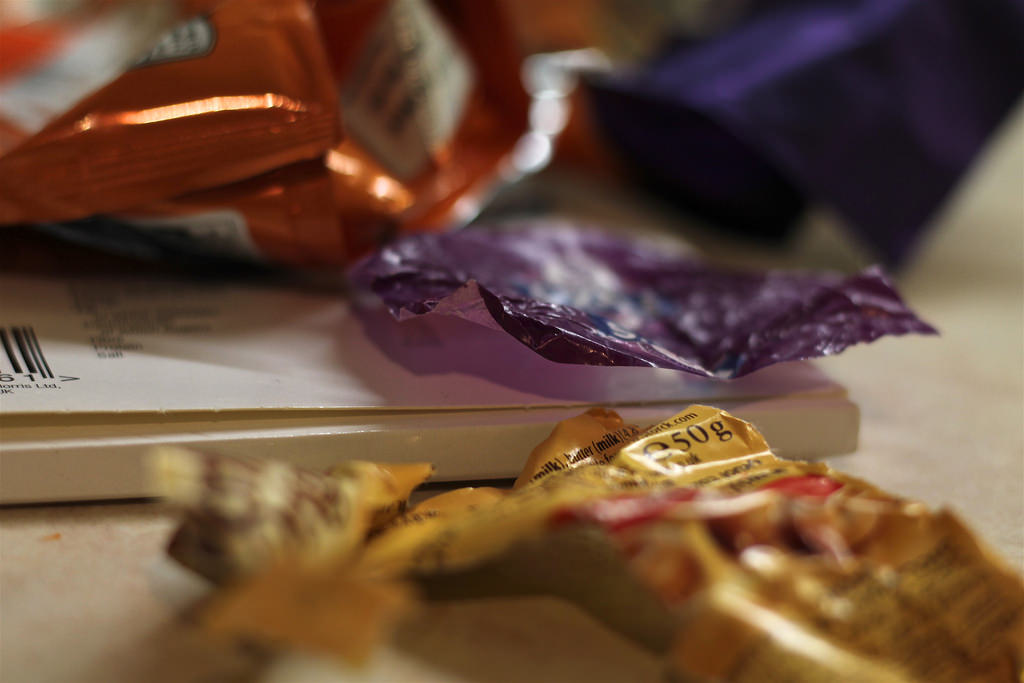wrapper: (137, 396, 1024, 683), (1, 1, 590, 276), (345, 223, 965, 382)
